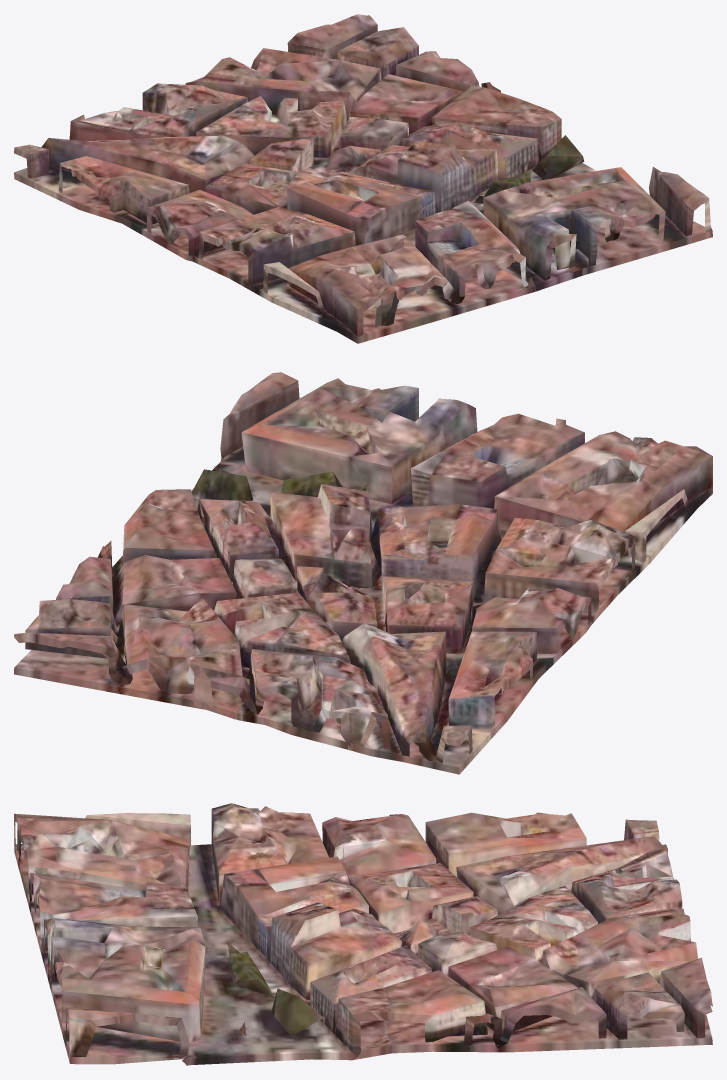
3 renders of one model, top to bottom at view 1: azimuth 30°, elevation 25°; view 2: azimuth 150°, elevation 25°; view 3: azimuth 270°, elevation 25°, orthographic. The views are drawn at different scales.
Parts seen in each view (by area): view 1: Mesh_0; view 2: Mesh_0; view 3: Mesh_0.
Part boxes in pixels (box(x1,y1,x2,y2)): Mesh_0: box(14, 14, 712, 343); Mesh_0: box(14, 372, 712, 774); Mesh_0: box(14, 803, 712, 1065).
Size of the model in its own units: 266 by 46.87 by 330.
2 materials, 2 textured.
